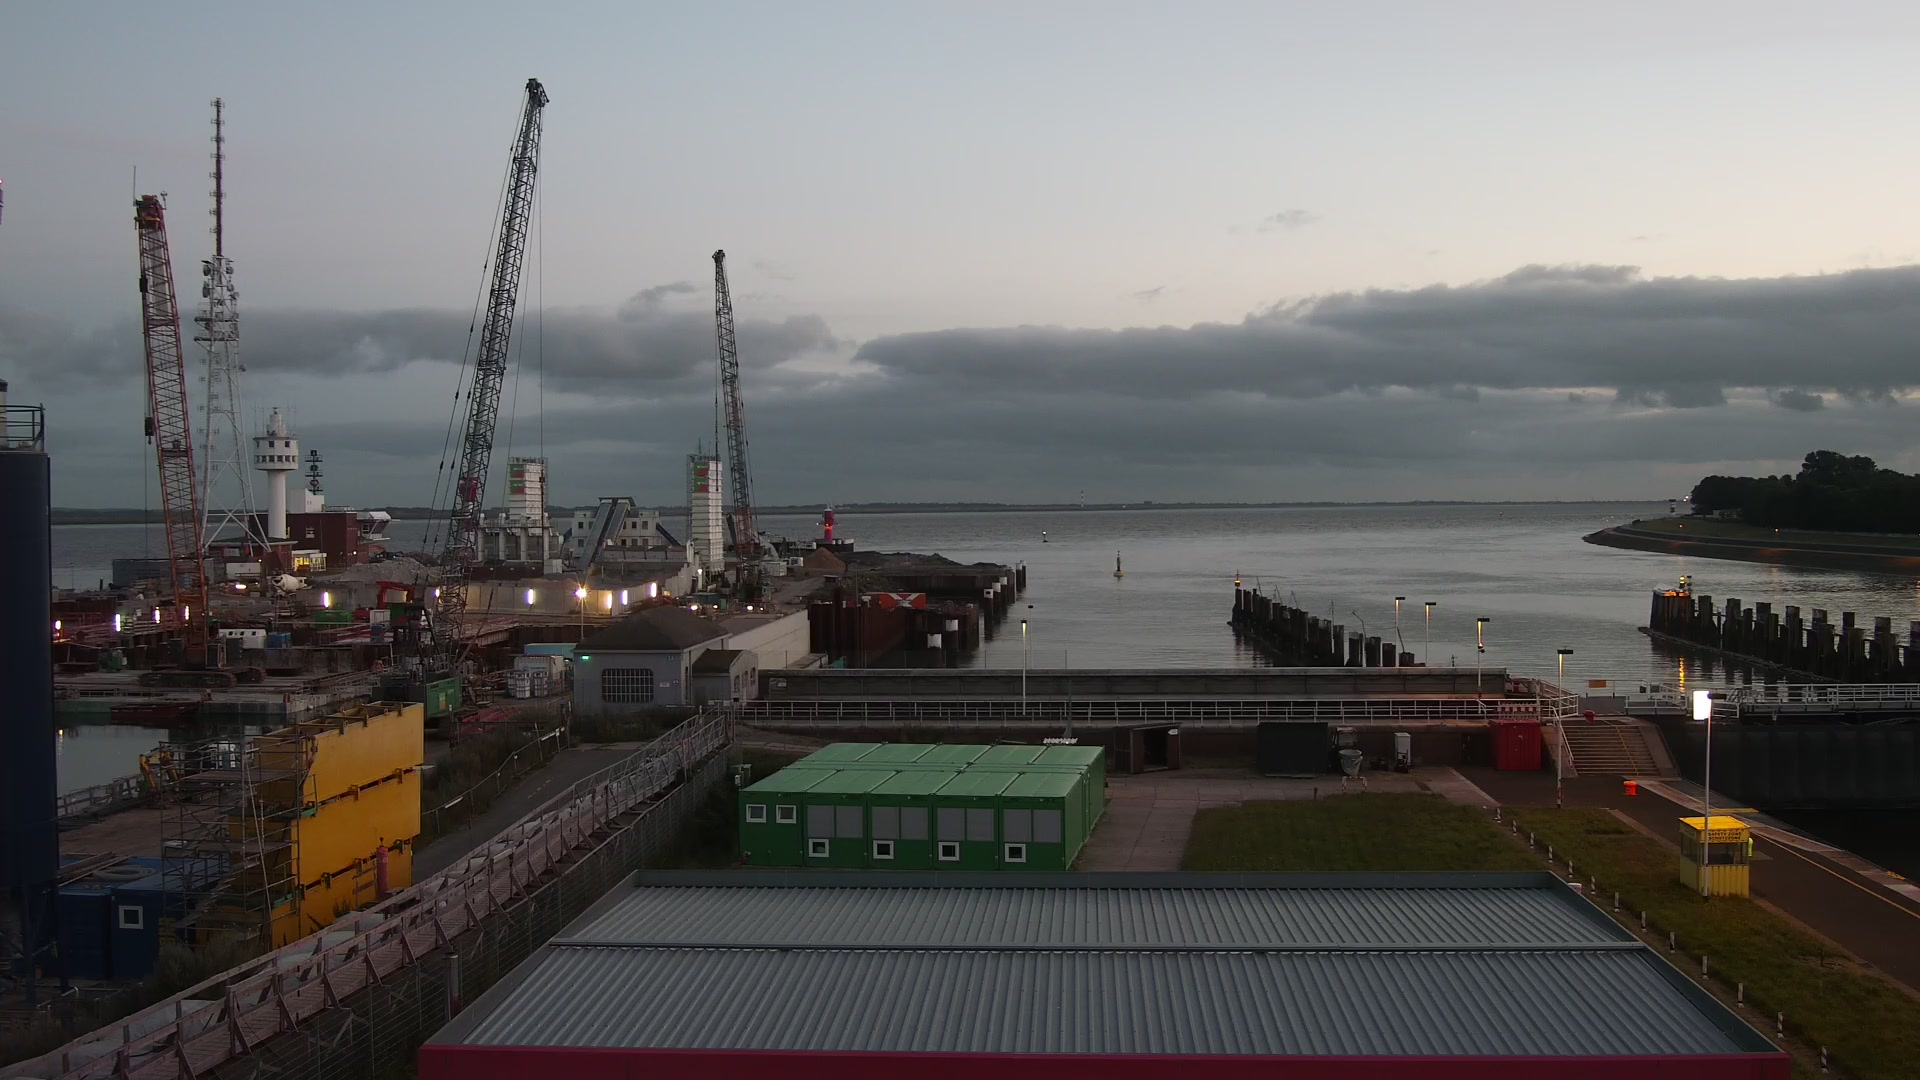land: (138, 742, 233, 808)
